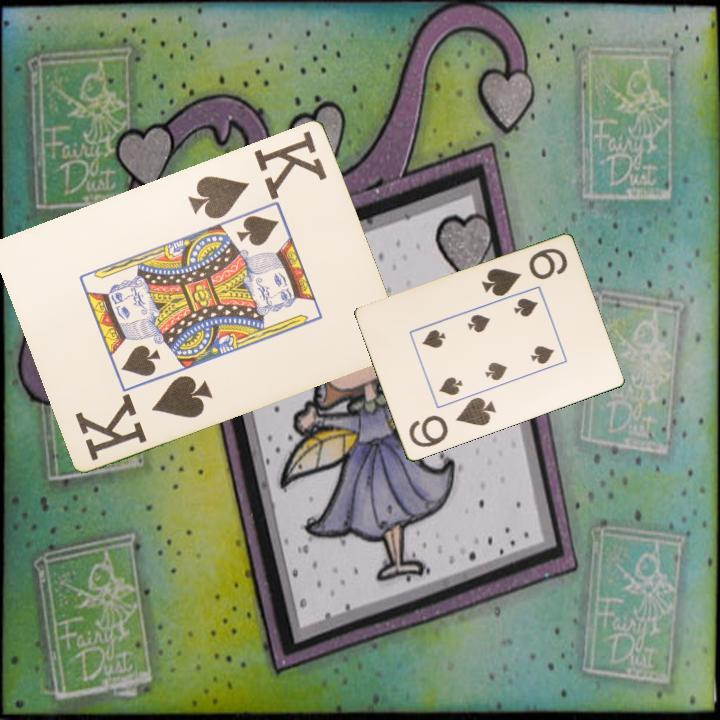6s: (405, 394, 499, 451), (478, 245, 570, 300)
Ks: (184, 126, 330, 222), (71, 371, 216, 463)
